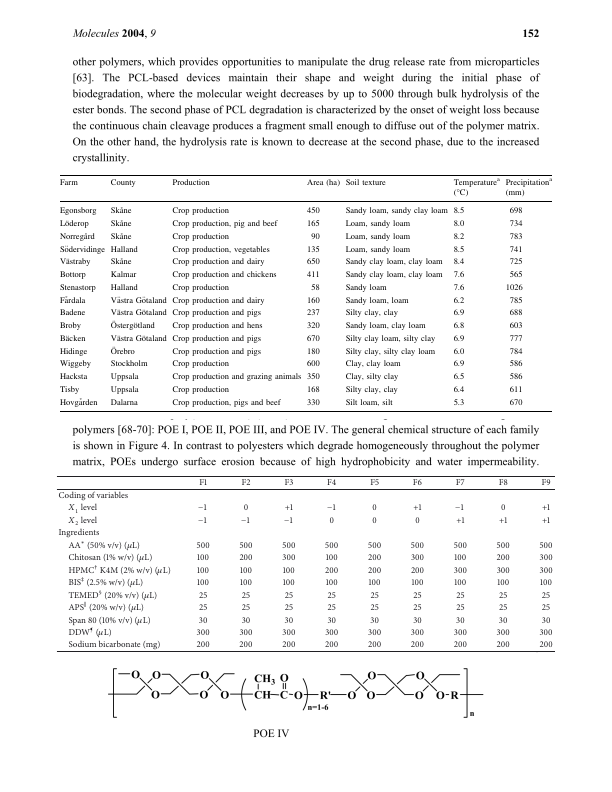borderless: (59, 173, 552, 411), (55, 474, 555, 651)
cell: (67, 561, 172, 578), (67, 587, 158, 603), (171, 372, 302, 382), (67, 550, 153, 565), (67, 612, 152, 627), (67, 599, 145, 615), (67, 574, 144, 590), (67, 537, 141, 553), (171, 398, 281, 408), (452, 176, 501, 198), (504, 176, 553, 198), (171, 219, 278, 229), (171, 270, 277, 280), (344, 207, 449, 217), (67, 640, 161, 651), (171, 245, 270, 255), (344, 258, 443, 268), (344, 270, 443, 280), (171, 258, 265, 268), (171, 296, 265, 306), (171, 321, 263, 331), (344, 334, 436, 344), (344, 347, 436, 357), (171, 309, 262, 319), (171, 334, 262, 344), (171, 347, 262, 357), (344, 321, 426, 331), (67, 624, 113, 640), (57, 491, 129, 501), (344, 219, 411, 229), (344, 232, 411, 242), (344, 245, 411, 255), (344, 296, 409, 306), (171, 207, 230, 217), (171, 232, 230, 242), (171, 283, 230, 293), (171, 360, 230, 370), (171, 385, 230, 395), (109, 296, 167, 306), (109, 309, 167, 319), (109, 334, 167, 344), (344, 360, 401, 370), (344, 372, 399, 382), (344, 309, 398, 319), (344, 385, 398, 395), (67, 512, 98, 529), (109, 320, 155, 331), (67, 500, 98, 516), (344, 398, 393, 408), (57, 528, 100, 539), (59, 245, 106, 255), (344, 283, 387, 293), (344, 178, 386, 188), (171, 178, 210, 188), (109, 360, 148, 370), (59, 398, 98, 408), (59, 207, 97, 217), (59, 283, 96, 293), (59, 232, 95, 242), (306, 178, 341, 188), (59, 360, 92, 370), (59, 258, 91, 268), (109, 345, 135, 357), (59, 219, 89, 229), (109, 372, 139, 382), (109, 385, 139, 395), (109, 245, 138, 255), (109, 283, 138, 293), (59, 347, 88, 357), (59, 372, 88, 382), (109, 398, 138, 408), (109, 270, 137, 280), (109, 178, 136, 188), (59, 270, 86, 280), (59, 296, 86, 306), (59, 309, 86, 319), (59, 334, 86, 344), (109, 206, 132, 217), (109, 257, 132, 268), (109, 219, 132, 229), (109, 232, 132, 242), (59, 321, 82, 331), (59, 385, 80, 395), (58, 178, 78, 188), (197, 512, 209, 528), (240, 512, 252, 528), (283, 512, 295, 528), (504, 283, 523, 293), (197, 500, 209, 515), (326, 500, 338, 515), (238, 553, 254, 564), (238, 640, 254, 651), (455, 500, 466, 515), (281, 553, 296, 564), (367, 553, 382, 564), (410, 553, 425, 564), (496, 553, 511, 564), (539, 553, 554, 564), (324, 565, 339, 576), (367, 565, 382, 576), (410, 565, 425, 576), (453, 565, 468, 576), (496, 565, 511, 576), (539, 565, 554, 576), (196, 640, 211, 651), (281, 640, 296, 651), (324, 640, 339, 651), (367, 640, 382, 651), (410, 640, 425, 651), (453, 640, 468, 651), (496, 640, 511, 651), (539, 640, 554, 651), (238, 541, 254, 551), (238, 628, 254, 638), (196, 553, 210, 564), (325, 553, 339, 564), (453, 553, 467, 564), (196, 565, 210, 576), (239, 565, 253, 576), (282, 565, 296, 576), (196, 578, 210, 589), (239, 578, 253, 589), (282, 578, 296, 589), (325, 578, 339, 589), (368, 578, 382, 589), (410, 578, 424, 589), (453, 578, 467, 589), (496, 578, 510, 589), (539, 578, 553, 589), (508, 207, 523, 217), (508, 219, 523, 229), (508, 232, 523, 242), (508, 245, 523, 255), (508, 258, 523, 268), (508, 270, 523, 280), (508, 296, 523, 306), (508, 309, 523, 319), (508, 321, 523, 331), (508, 334, 523, 344), (508, 347, 523, 357), (508, 360, 523, 370), (508, 372, 523, 382), (508, 385, 523, 395), (508, 398, 523, 408), (196, 541, 211, 551), (281, 541, 296, 551), (324, 541, 339, 551), (367, 541, 382, 551), (410, 541, 425, 551), (453, 541, 468, 551), (496, 541, 511, 551), (539, 541, 554, 551), (196, 628, 211, 638), (281, 628, 296, 638), (324, 628, 339, 638), (367, 628, 382, 638), (410, 628, 425, 638), (453, 628, 468, 638), (496, 628, 511, 638), (539, 628, 554, 638), (306, 207, 320, 217), (306, 219, 320, 229), (306, 245, 320, 255), (306, 258, 320, 268), (306, 270, 320, 280), (306, 296, 320, 306), (306, 309, 320, 319), (306, 321, 320, 331), (306, 334, 320, 344), (306, 347, 320, 357), (306, 360, 320, 370), (306, 372, 320, 382), (306, 385, 320, 395), (306, 398, 320, 408), (452, 207, 465, 217), (452, 219, 465, 229), (452, 232, 465, 242), (452, 245, 465, 255), (452, 258, 465, 268), (452, 270, 465, 280), (452, 283, 465, 293), (452, 296, 465, 306), (452, 309, 465, 319), (452, 321, 465, 331), (452, 334, 465, 344), (452, 347, 465, 357), (452, 360, 465, 370), (452, 372, 465, 382), (452, 385, 465, 395), (452, 398, 465, 408), (283, 478, 294, 489), (326, 478, 337, 489), (369, 478, 380, 489), (412, 478, 423, 489), (455, 478, 466, 489), (498, 478, 509, 489), (541, 478, 552, 489), (412, 503, 423, 514), (369, 590, 380, 601), (412, 590, 423, 601), (455, 590, 466, 601), (326, 615, 337, 626), (369, 615, 380, 626), (412, 615, 423, 626), (455, 615, 466, 626), (198, 478, 208, 489), (241, 478, 251, 489), (284, 503, 294, 514), (541, 503, 551, 514), (198, 590, 208, 601), (241, 590, 251, 601), (284, 590, 294, 601), (327, 590, 337, 601), (498, 590, 508, 601), (541, 590, 551, 601), (369, 603, 380, 613), (412, 603, 423, 613), (455, 603, 466, 613), (198, 615, 208, 626), (241, 615, 251, 626), (284, 615, 294, 626), (498, 615, 508, 626), (541, 615, 551, 626), (310, 232, 320, 242), (310, 283, 320, 293), (455, 516, 465, 526), (498, 516, 508, 526), (541, 516, 551, 526), (198, 603, 208, 613), (241, 603, 251, 613), (284, 603, 294, 613), (327, 603, 337, 613), (498, 603, 508, 613), (541, 603, 551, 613), (371, 503, 378, 514), (371, 516, 378, 526), (414, 516, 421, 526), (243, 503, 249, 514), (500, 503, 506, 514), (329, 516, 335, 526)
